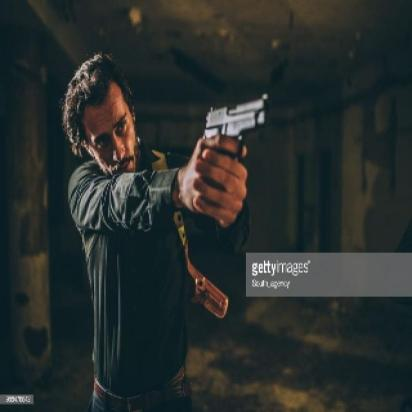Gun: (202, 93, 272, 141)
